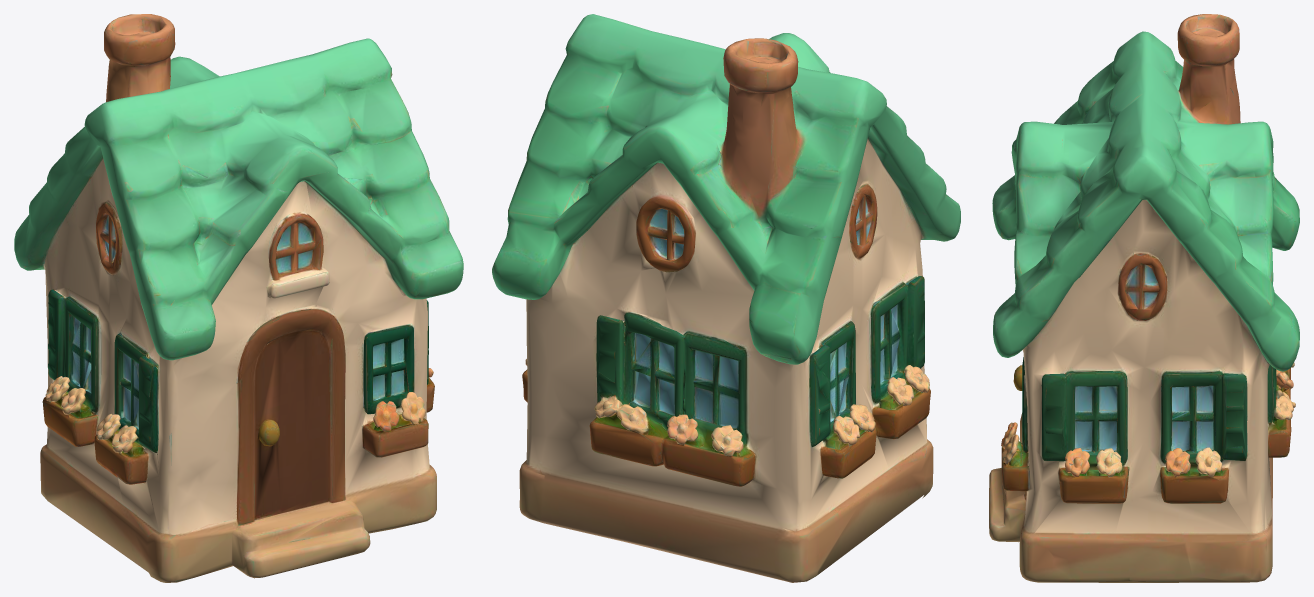
The model's file is bld_about_house.glb.
The picture shows the model from 3 angles, left to right: view 1: azimuth 30°, elevation 25°; view 2: azimuth 150°, elevation 25°; view 3: azimuth 270°, elevation 25°; orthographic projection. The views are drawn at different scales.
Size of the model in its own units: 1.34 by 1.91 by 1.16.
1 material, 1 textured.
